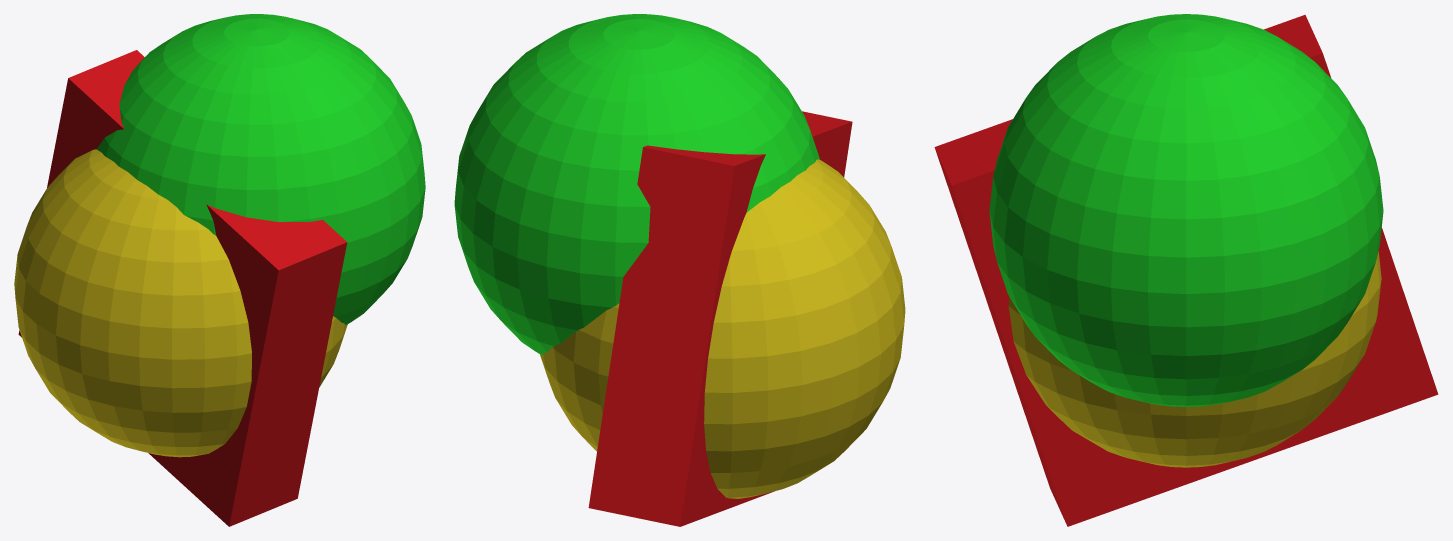
Rendered from spheres.obj.
3 renders of one model, left to right at view 1: azimuth 30°, elevation 25°; view 2: azimuth 150°, elevation 25°; view 3: azimuth 270°, elevation 25°, orthographic. The views are drawn at different scales.
Parts seen in each view (by area): view 1: Sphere.001, Sphere, Cube; view 2: Sphere.001, Sphere, Cube; view 3: Sphere.001, Cube, Sphere.
Boxes of the visible parts, x1=… form: Sphere.001: x1=96, y1=14, x2=425, y2=324; Sphere: x1=14, y1=149, x2=347, y2=457; Cube: x1=18, y1=50, x2=347, y2=526; Sphere.001: x1=454, y1=14, x2=819, y2=354; Sphere: x1=540, y1=159, x2=905, y2=498; Cube: x1=588, y1=111, x2=852, y2=526; Sphere.001: x1=989, y1=14, x2=1383, y2=406; Cube: x1=934, y1=15, x2=1438, y2=526; Sphere: x1=1008, y1=251, x2=1381, y2=467.
Size of the model in its own units: 2.51 by 2.83 by 2.56.
